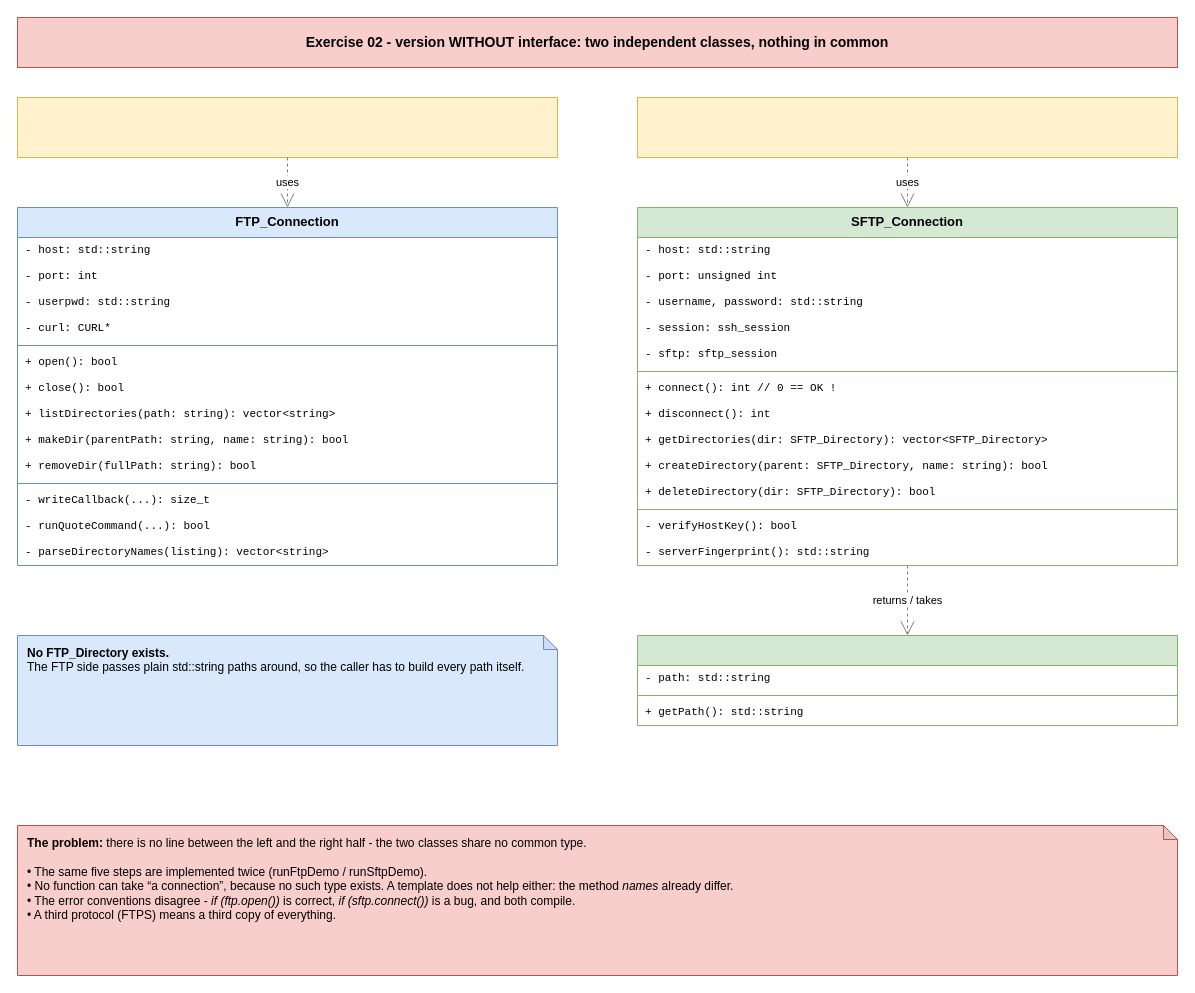
Some shapes in this 1195 by 993 pixel diagram are drawn without their labels. Each missing label, with the box of its shape:
runFtpDemo() list - create - list - delete - list: (16, 96, 558, 158)
runSftpDemo() list - create - list - delete - list: (636, 96, 1178, 158)
SFTP_Directory: (636, 634, 1178, 726)
